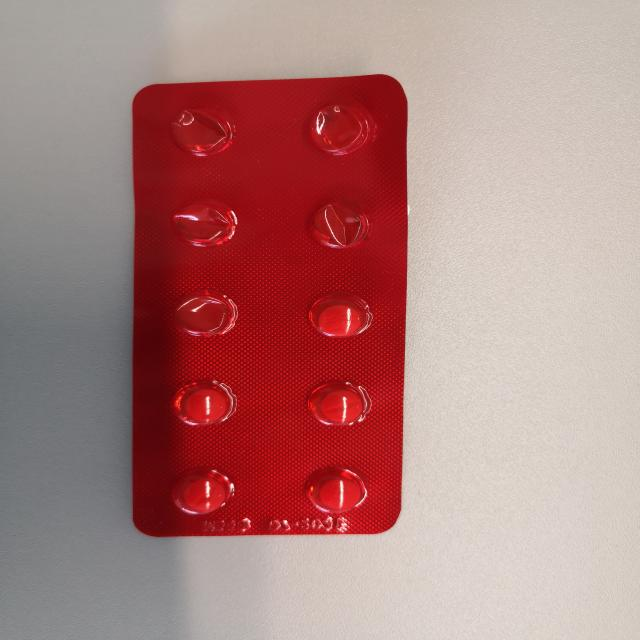Empty: (157, 192, 254, 253), (153, 102, 245, 166), (295, 95, 385, 158), (297, 192, 385, 255), (163, 284, 250, 340)
Pill: (157, 369, 247, 434), (296, 457, 381, 524), (294, 374, 380, 436), (299, 290, 376, 347), (166, 463, 237, 521)
